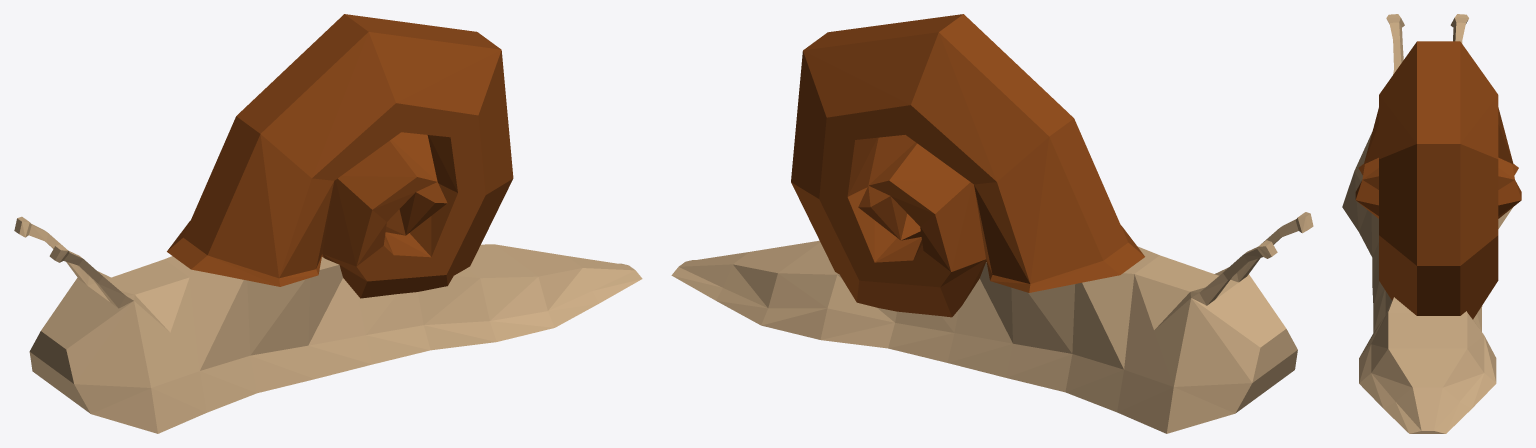
File: Animal_Snail_01.fbx
3 renders of one model, left to right at view 1: azimuth 30°, elevation 25°; view 2: azimuth 150°, elevation 25°; view 3: azimuth 270°, elevation 25°, orthographic. The views are drawn at different scales.
Visible parts, largest first — view 1: Animal_Snail_01; view 2: Animal_Snail_01; view 3: Animal_Snail_01.
Boxes of the visible parts, x1=… form: Animal_Snail_01: x1=14, y1=14, x2=642, y2=433; Animal_Snail_01: x1=671, y1=14, x2=1313, y2=433; Animal_Snail_01: x1=1342, y1=14, x2=1521, y2=433.
Size of the model in its own units: 9.42 by 4.66 by 2.75.
